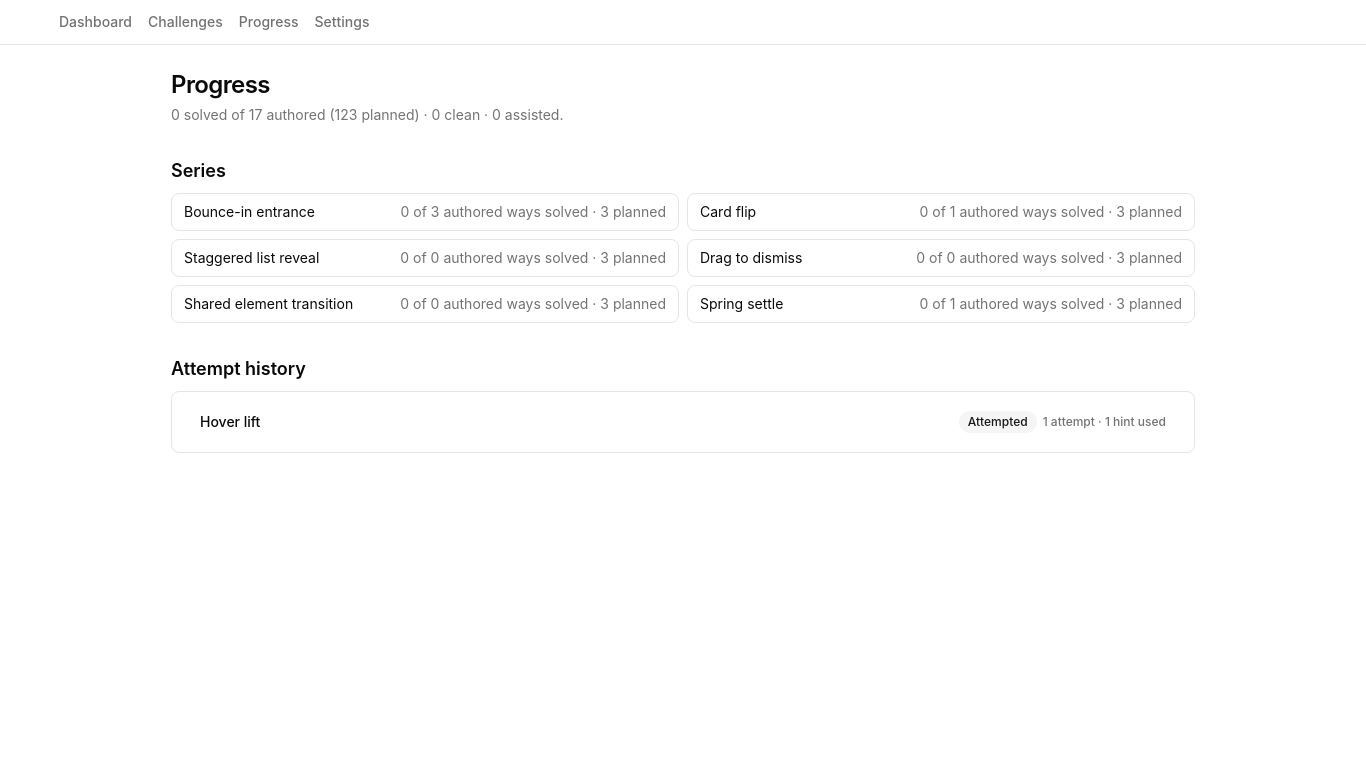
Scenario: ProgressPage › shows stats, series completion, and expandable attempt history with persisted failures
Expected: the heading "Progress" is shown, [171, 70, 270, 99]
Click the button "Hover lift Attempted 1 attempt · 1 hint used".
click(230, 422)  # box [184, 404, 1182, 440]
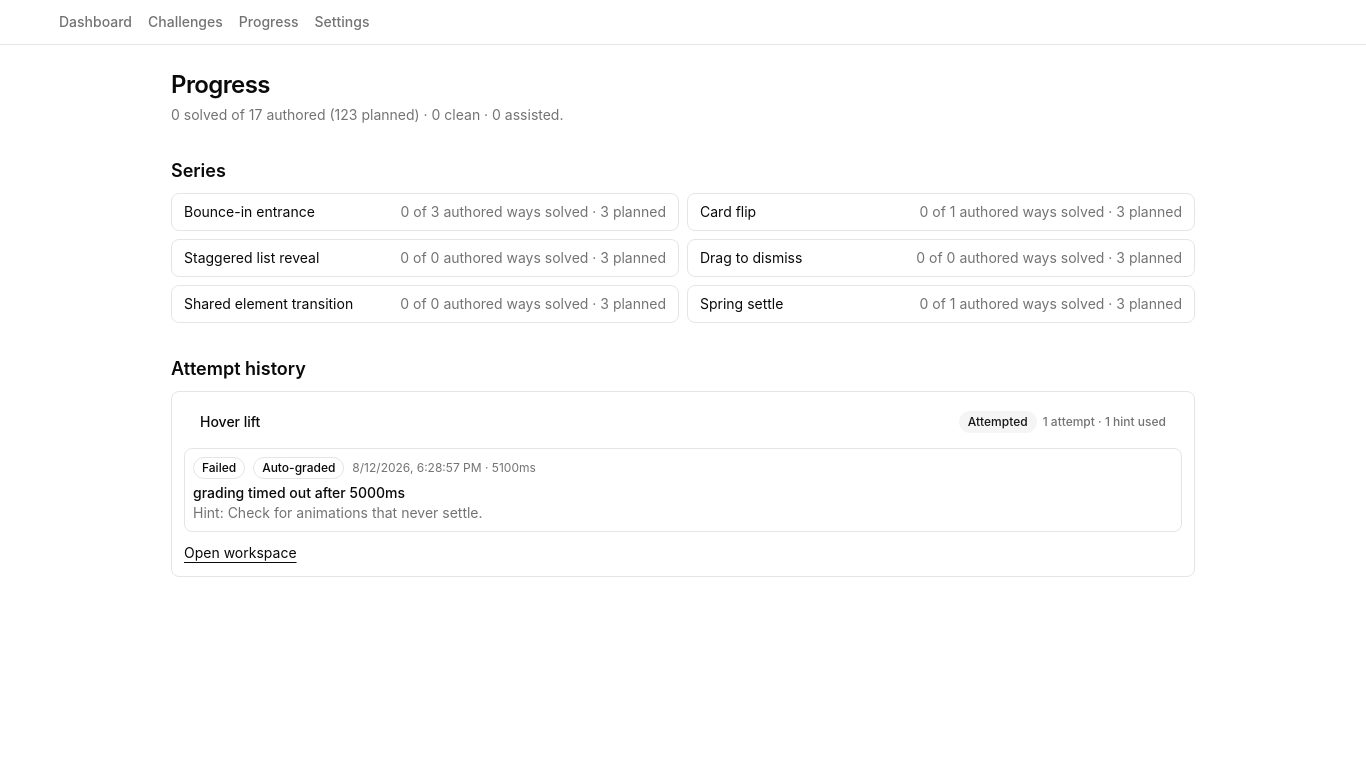
Now the text "grading timed out after 5000ms" is shown, box [193, 484, 405, 501]
Now the text "Hint: Check for animations that never settle." is shown, box [193, 504, 483, 521]
Now the text "Auto-graded" is shown, box [253, 457, 344, 479]
